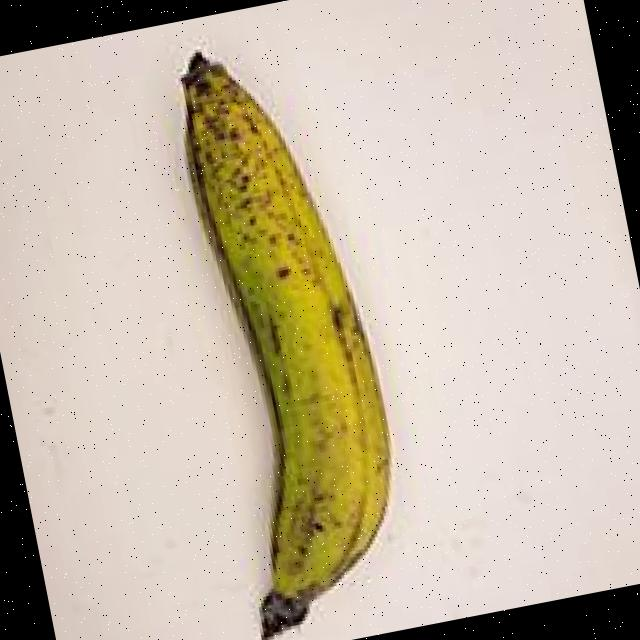Overripe: (63, 3, 457, 640)
